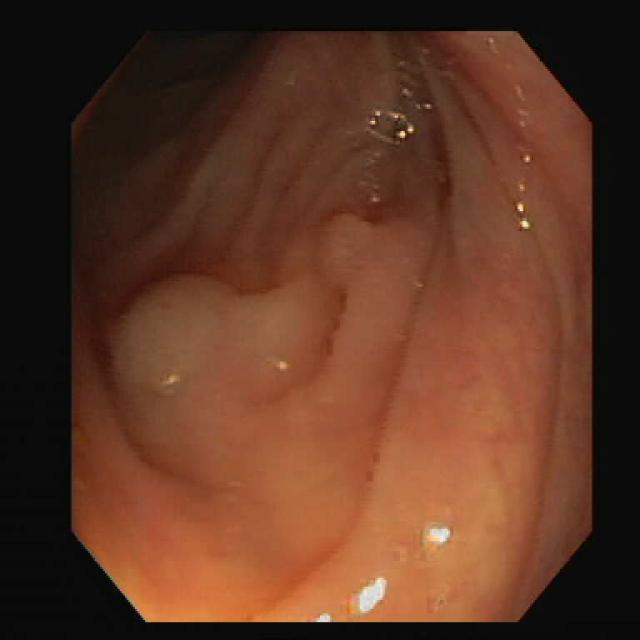tumor: (108, 276, 338, 467), (320, 213, 375, 280)
